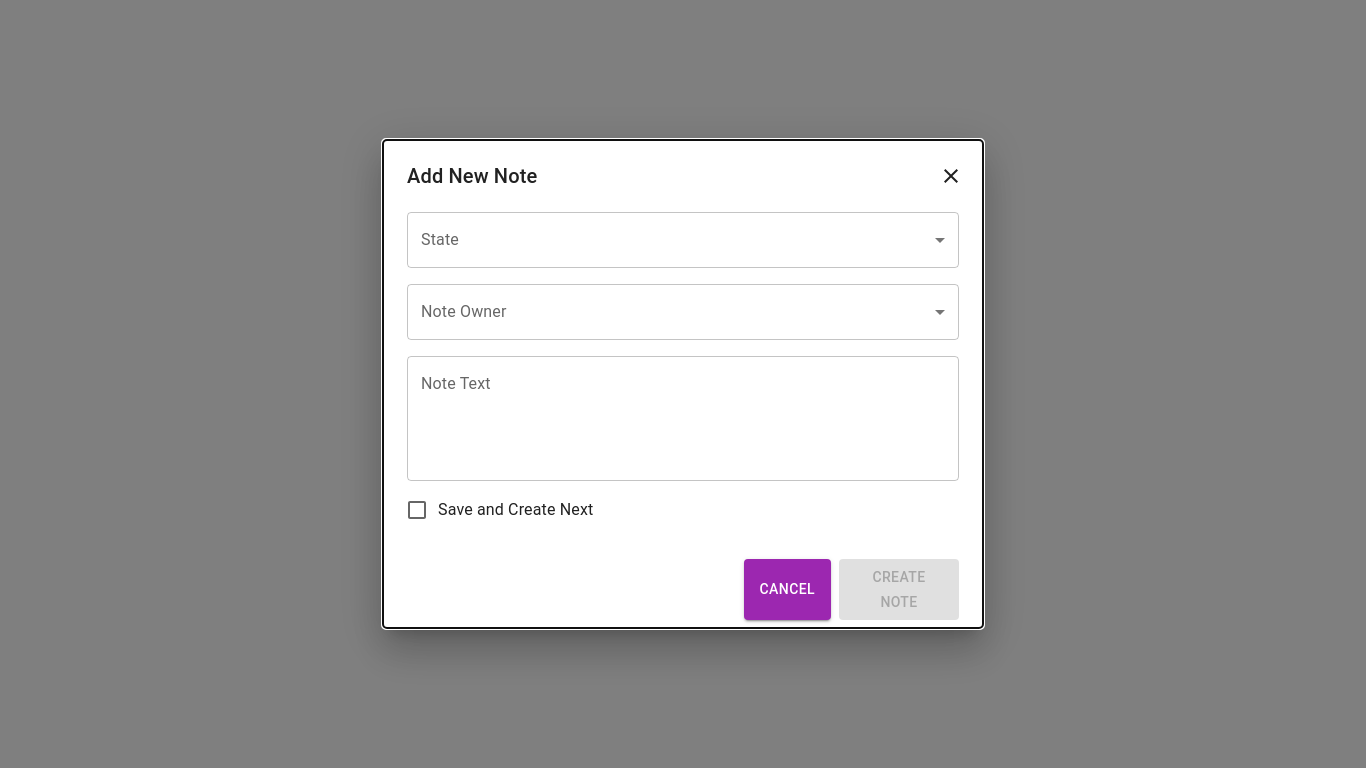
Test: AddNewNoteModal › Form field interactions › allows selecting a note owner
The width and height of the screenshot is (1366, 768).
Click the dropdown named "Note Owner" next to "Note Owner": (683, 312) [407,284,959,340]
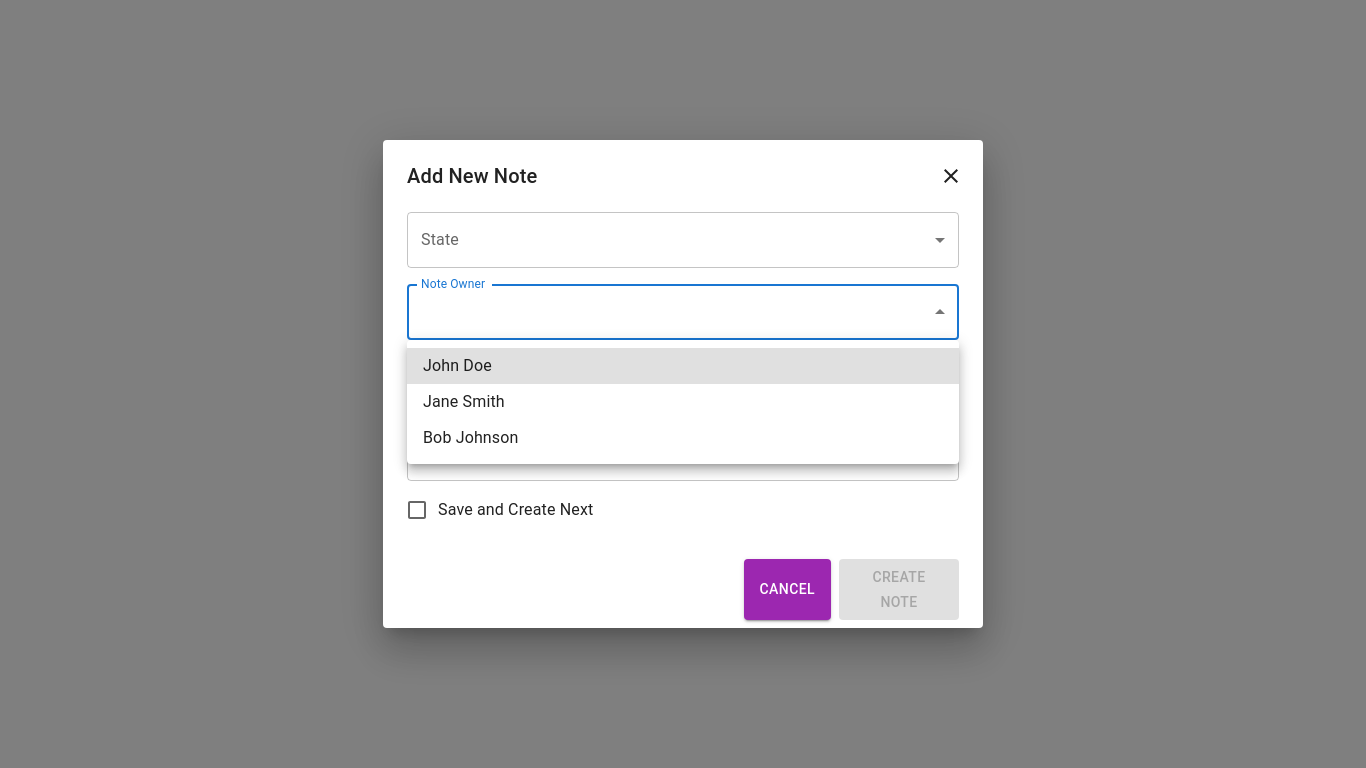
Click the option "John Doe": (457, 366) [407,348,959,384]
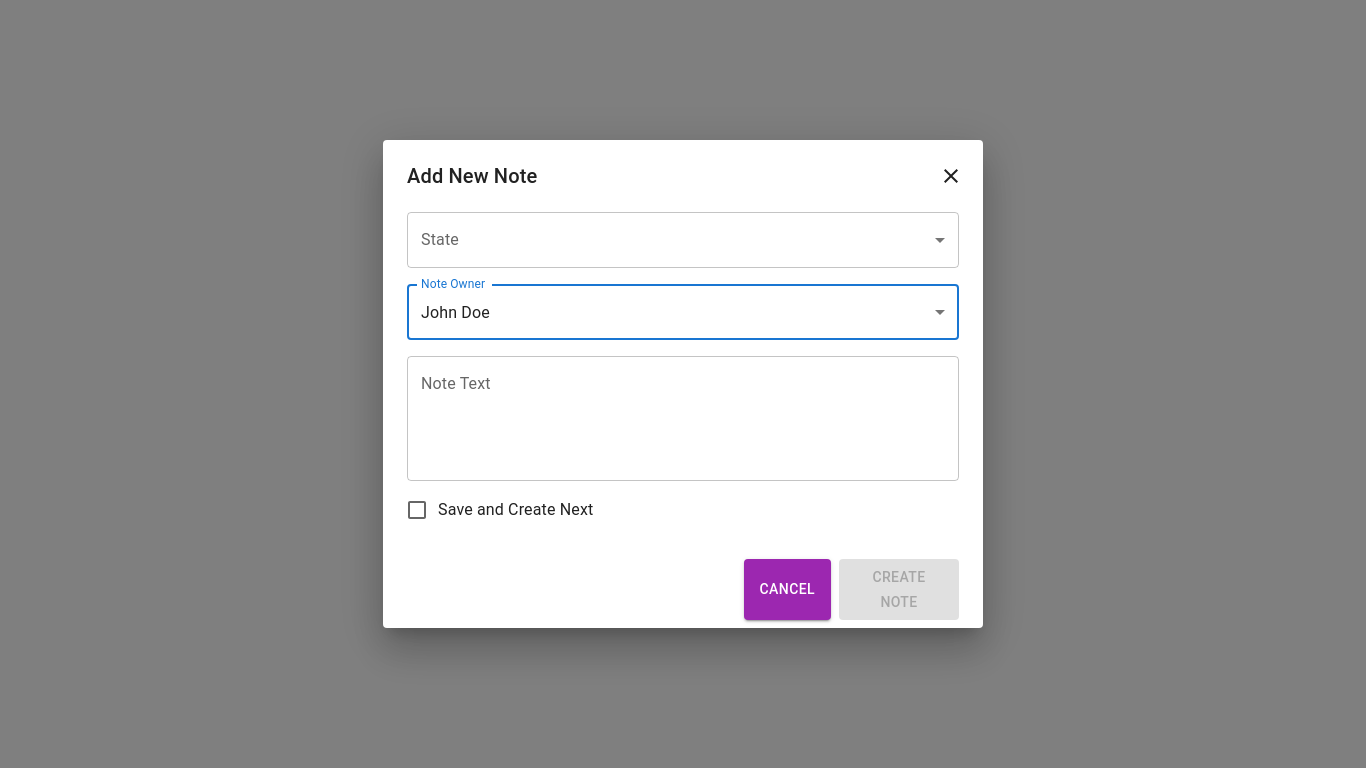
Now the dropdown named "Note Owner" reads "John Doe", box [421,302,490,322]
